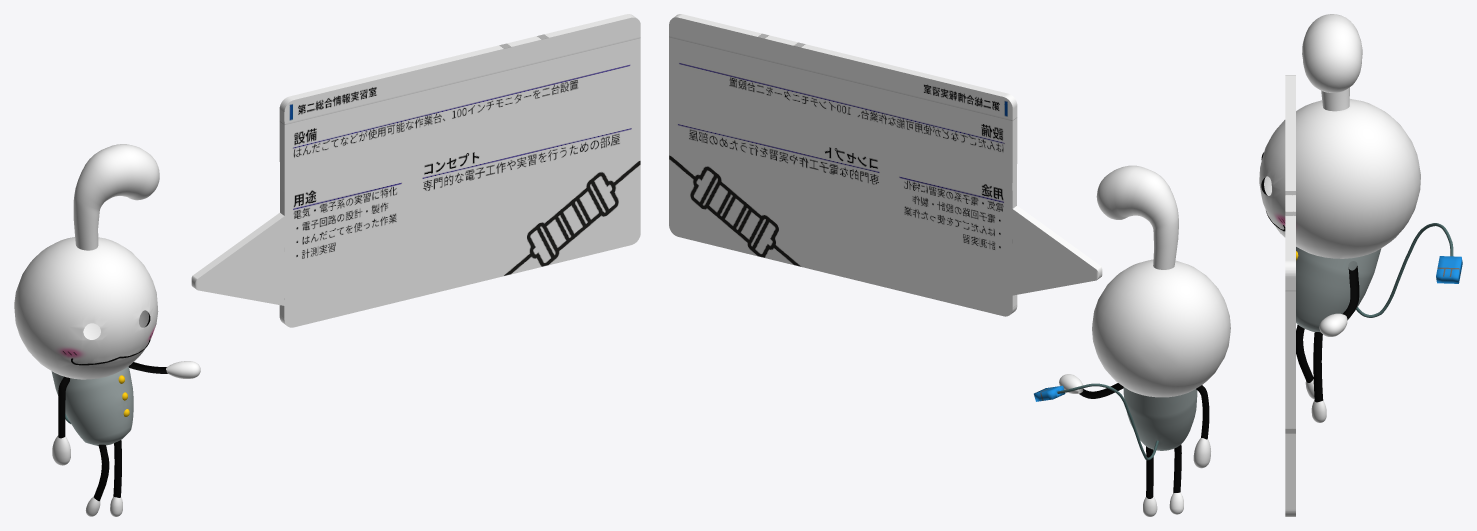
Rendered from second.glb.
3 renders of one model, left to right at view 1: azimuth 30°, elevation 25°; view 2: azimuth 150°, elevation 25°; view 3: azimuth 270°, elevation 25°, orthographic. The views are drawn at different scales.
Parts seen in each view (by area): view 1: 吹き出し（画像）, 頭, 吹き出し（角）, 触覚, 胴; view 2: 吹き出し（画像）, 頭, 吹き出し（角）, 触覚, 胴; view 3: 頭, 吹き出し（画像）, 触覚, 胴, マウス, 尻尾, 左脚, 左拳, 右脚, 左腕, 左足.
Boxes of the visible parts, <box> form: 吹き出し（画像）: <box>279,14,640,327</box>; 頭: <box>14,237,158,379</box>; 吹き出し（角）: <box>191,213,284,305</box>; 触覚: <box>73,144,159,250</box>; 胴: <box>51,366,133,445</box>; 吹き出し（画像）: <box>669,14,1017,316</box>; 頭: <box>1092,259,1230,397</box>; 吹き出し（角）: <box>1012,205,1102,295</box>; 触覚: <box>1096,165,1178,269</box>; 胴: <box>1123,387,1197,450</box>; 頭: <box>1259,99,1420,258</box>; 吹き出し（画像）: <box>1285,75,1295,516</box>; 触覚: <box>1302,14,1362,111</box>; 胴: <box>1296,247,1380,332</box>; マウス: <box>1436,256,1462,283</box>; 尻尾: <box>1356,223,1453,317</box>; 左脚: <box>1313,332,1323,402</box>; 左拳: <box>1319,313,1347,336</box>; 右脚: <box>1296,325,1313,382</box>; 左腕: <box>1342,266,1359,319</box>; 左足: <box>1311,400,1326,422</box>.
Size of the model in its own units: 24.01 by 15.01 by 6.36.
13 materials, 2 textured.
